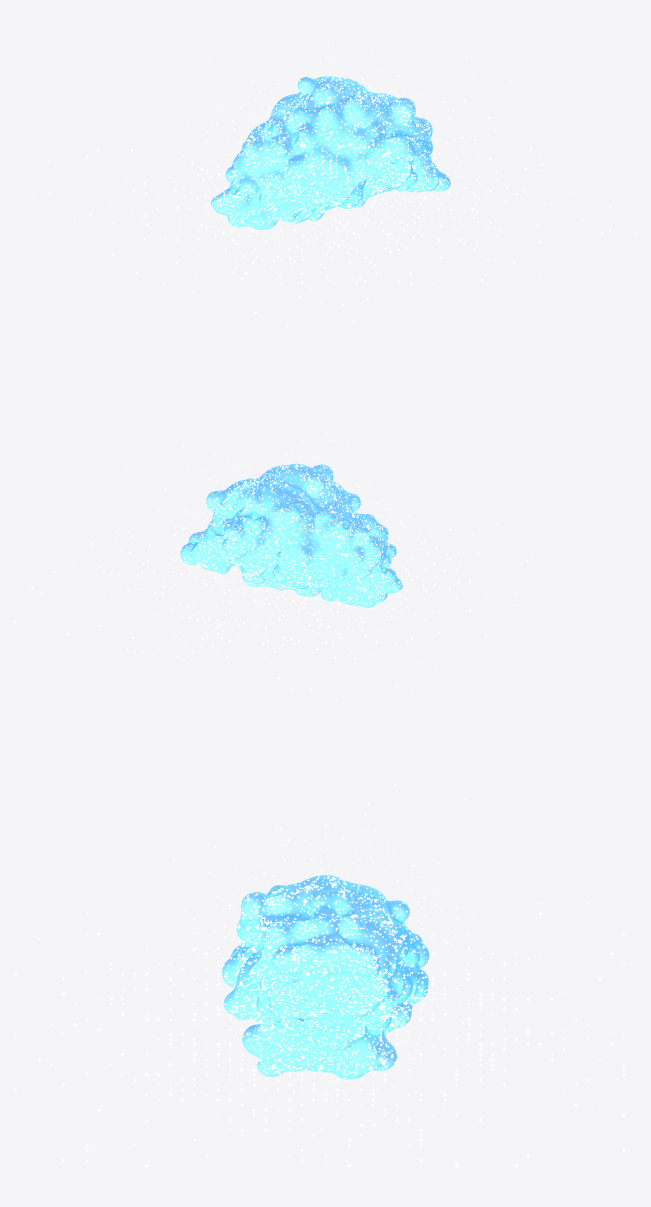
The model's file is tech_cloud.glb.
3 views of the same model, one above another, from view 1: azimuth 30°, elevation 25°; view 2: azimuth 150°, elevation 25°; view 3: azimuth 270°, elevation 25° (orthographic). The views are drawn at different scales.
Visible parts, largest first — view 1: CloudCore, CloudNodes, FloorDots; view 2: CloudCore, CloudNodes, FloorDots; view 3: CloudCore, CloudNodes, FloorDots.
Boxes of the visible parts, box(x1,y1,x2,y2) form: CloudCore: box(211, 76, 450, 229); CloudNodes: box(186, 36, 485, 268); FloorDots: box(14, 14, 636, 328); CloudCore: box(180, 463, 402, 607); CloudNodes: box(134, 430, 431, 649); FloorDots: box(14, 357, 636, 702); CloudCore: box(222, 875, 429, 1079); CloudNodes: box(183, 822, 480, 1129); FloorDots: box(14, 731, 636, 1192).
Size of the model in its own units: 6.46 by 2.92 by 5.22.
